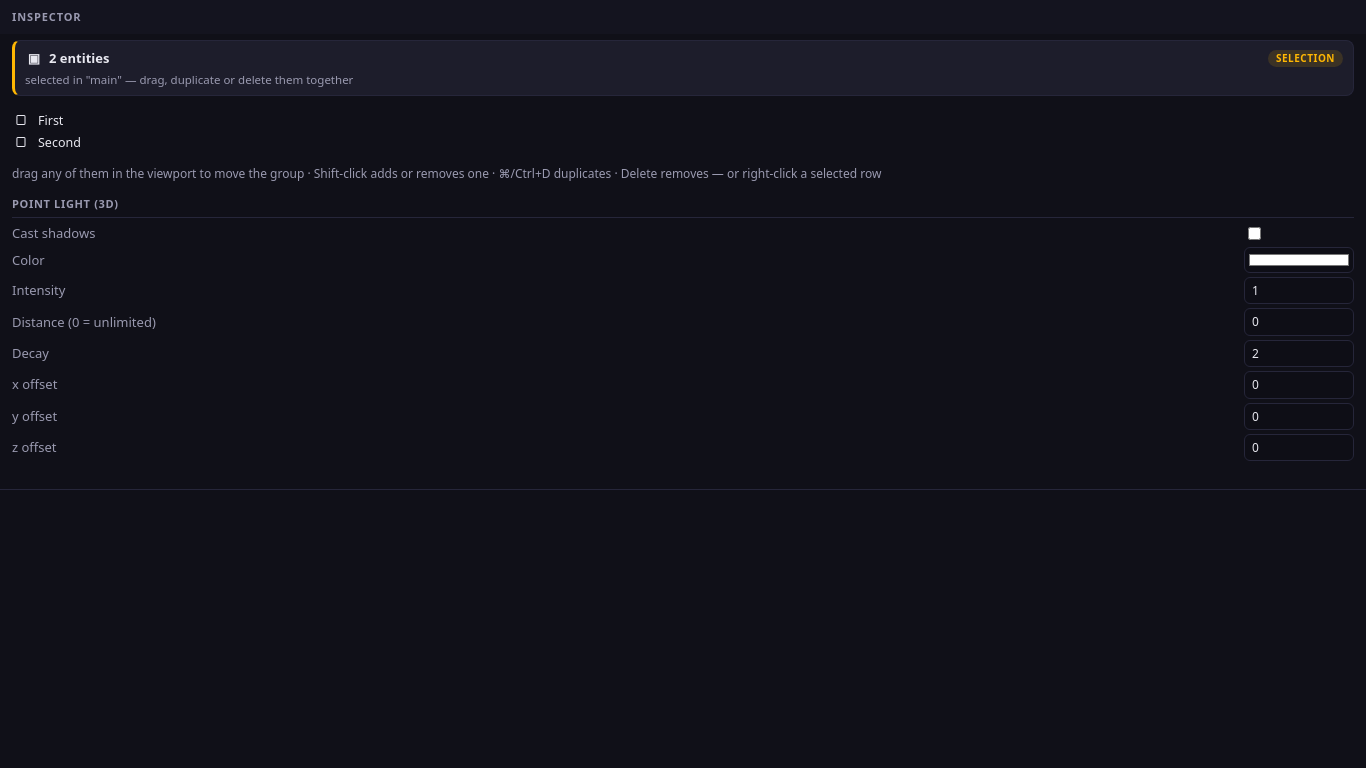
Test: shows a rejected multi-light flag change without leaving the controlled checkbox enabled
Click the checkbox labelled "Cast shadows" at (1254, 233), box top-left (1248, 227), bottom-right (1261, 240)
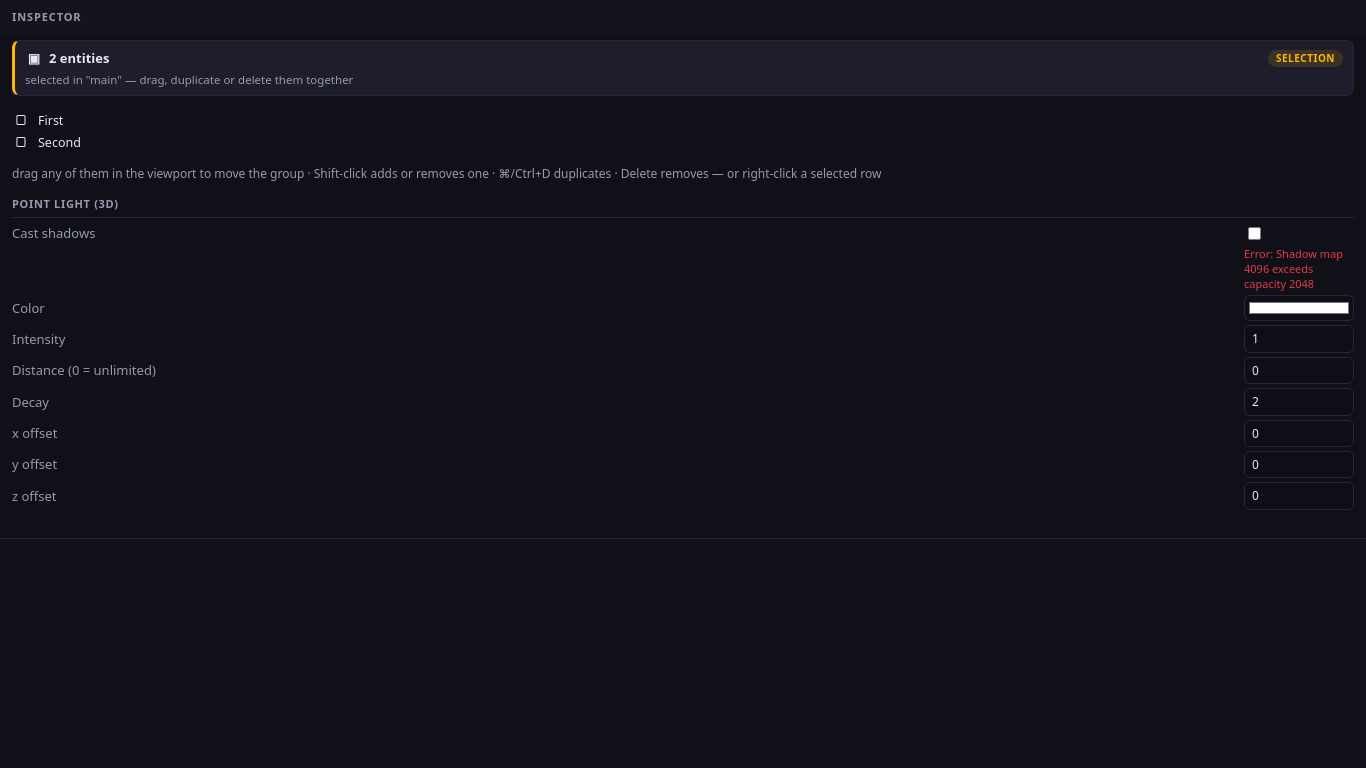
Expected: the message shows "4096 exceeds capacity 2048", top-left (1244, 246), bottom-right (1343, 291)
